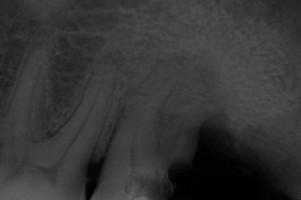Dental Caries: (150, 46, 230, 128)
